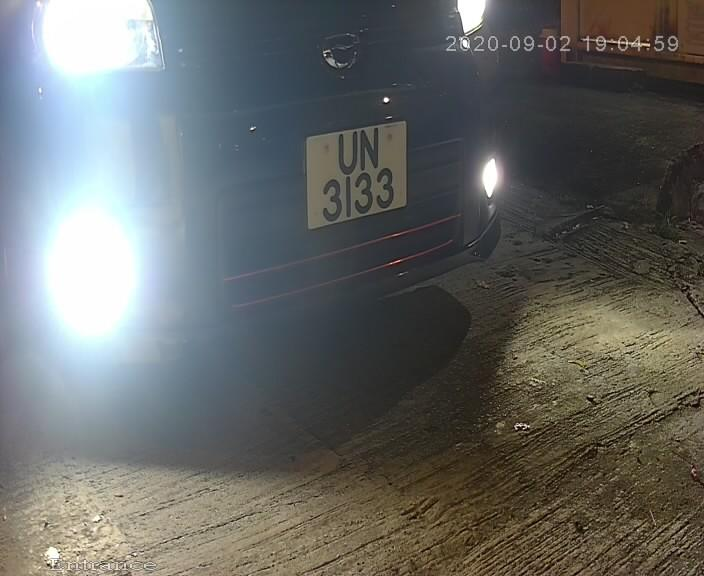License Plate: (299, 109, 415, 240)
